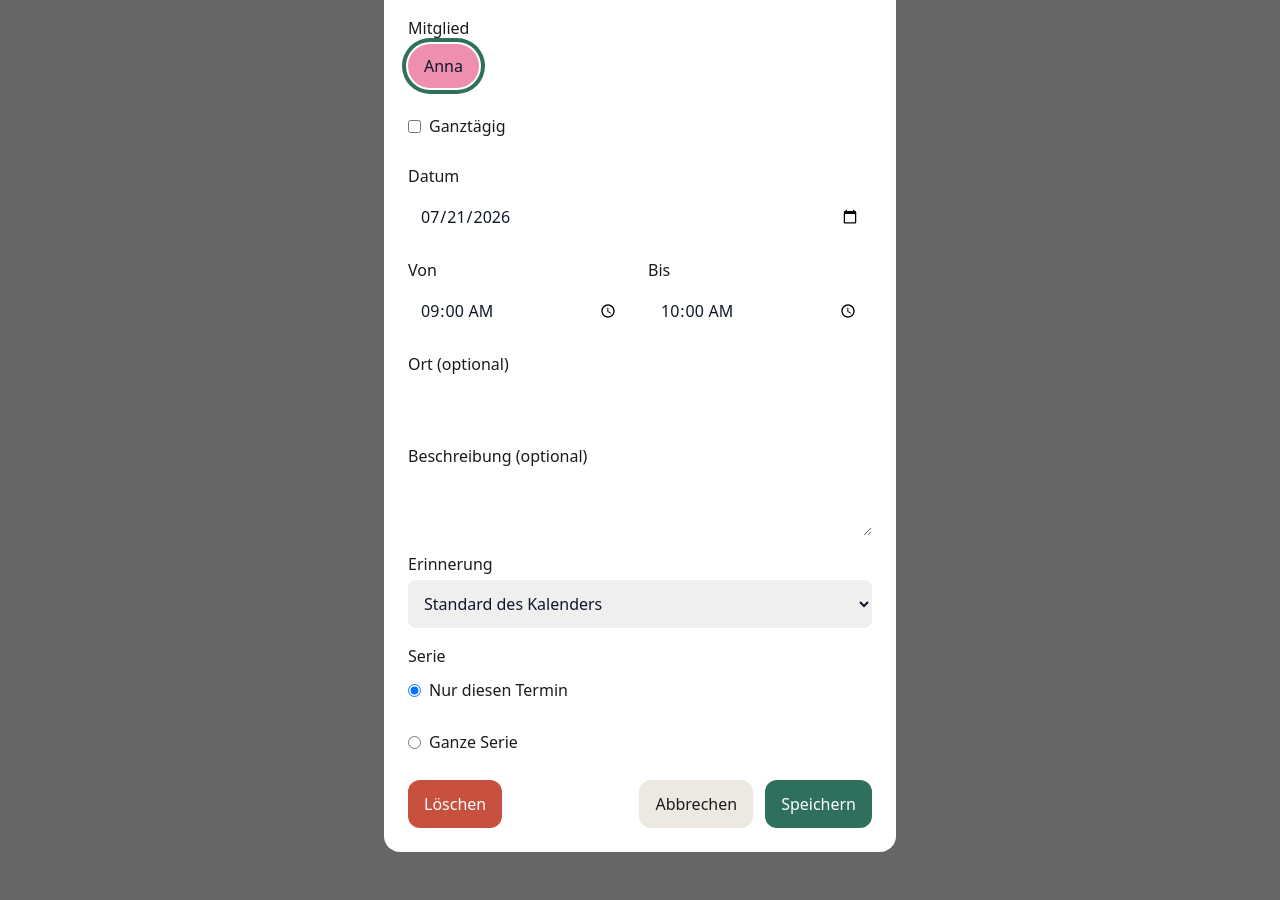
Test: EventDialog (edit + delete) › shows an error banner when fetching the series fails
(page scrolled)
Click the radio button labelled "Ganze Serie" at x=414, y=742, box [408,736,421,748]
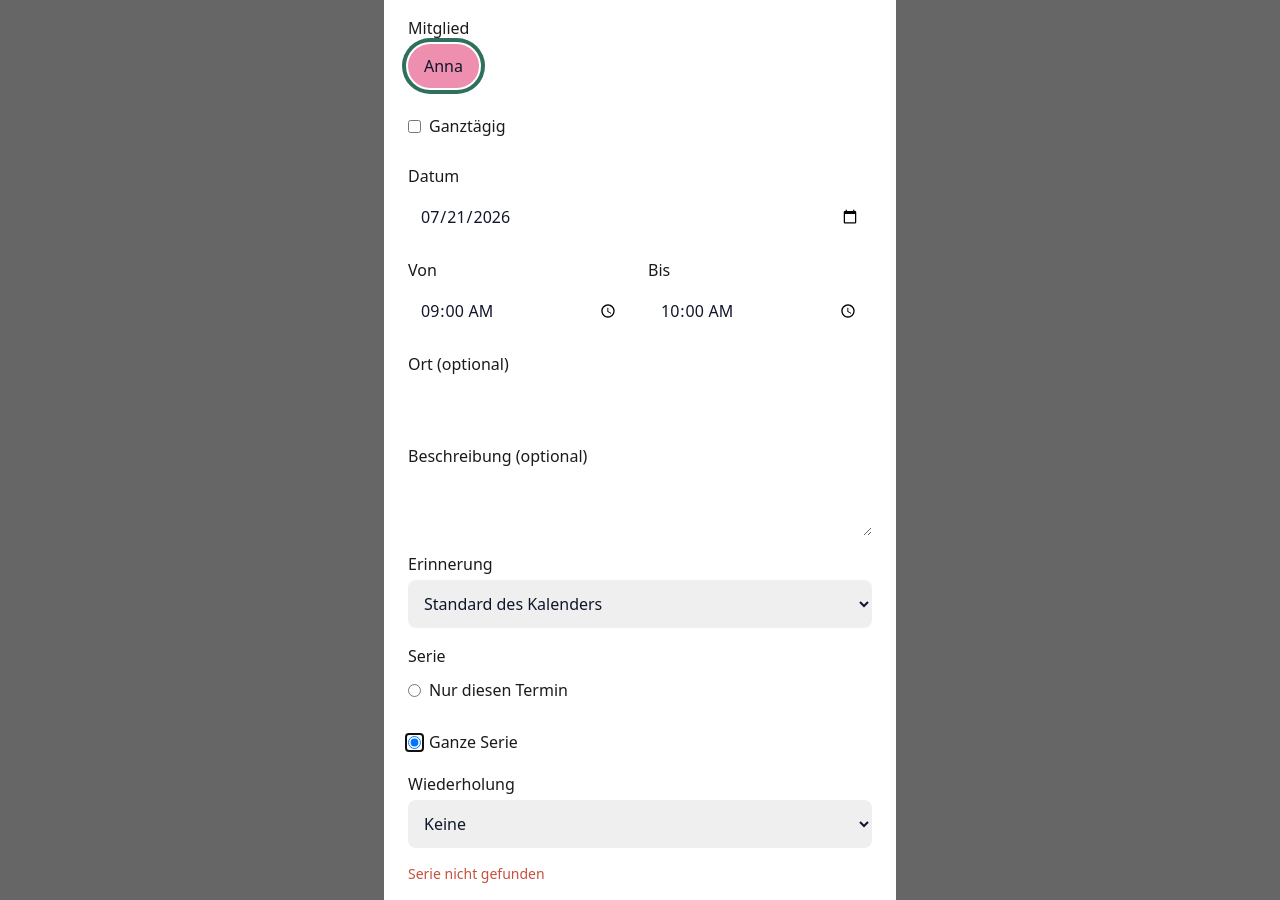
Expected: the text "Serie nicht gefunden" is shown, [408,864,545,883]
